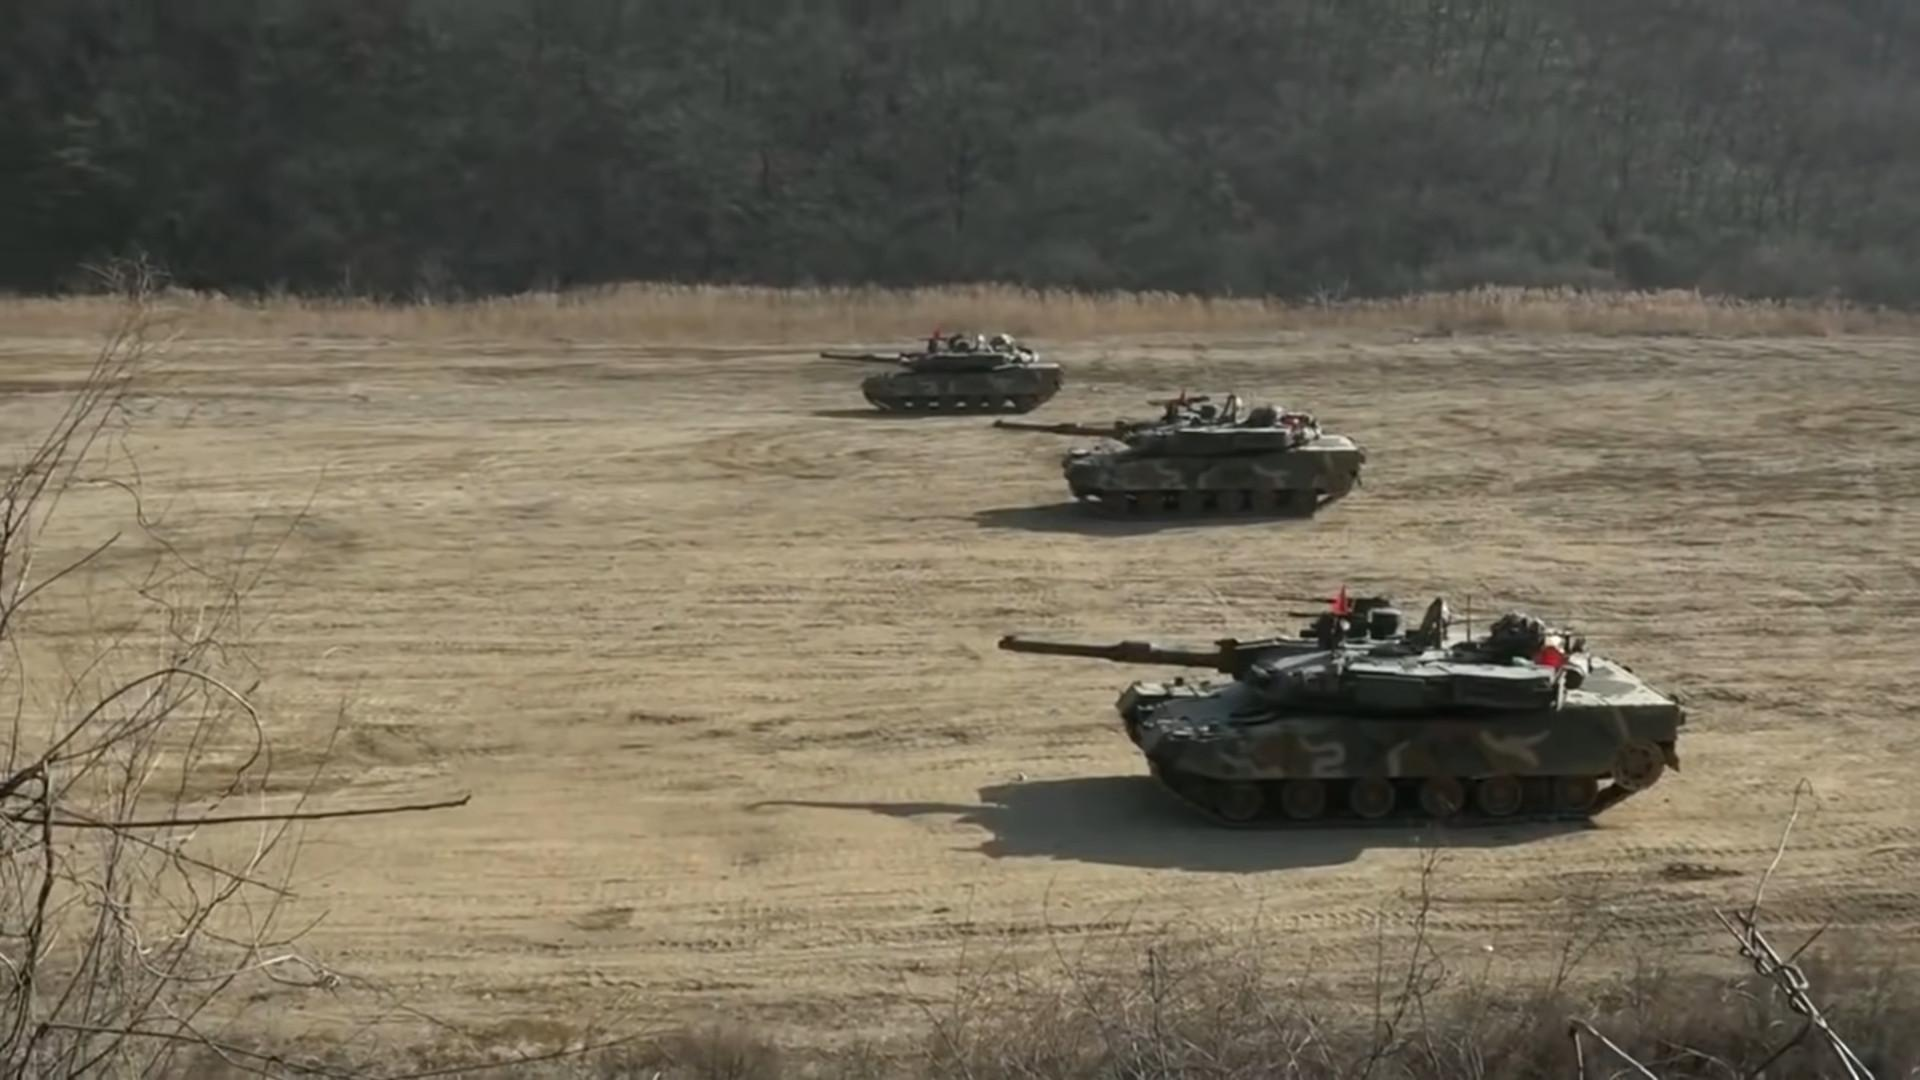tank: (1000, 593, 1685, 829), (993, 394, 1361, 521), (822, 332, 1064, 414)
